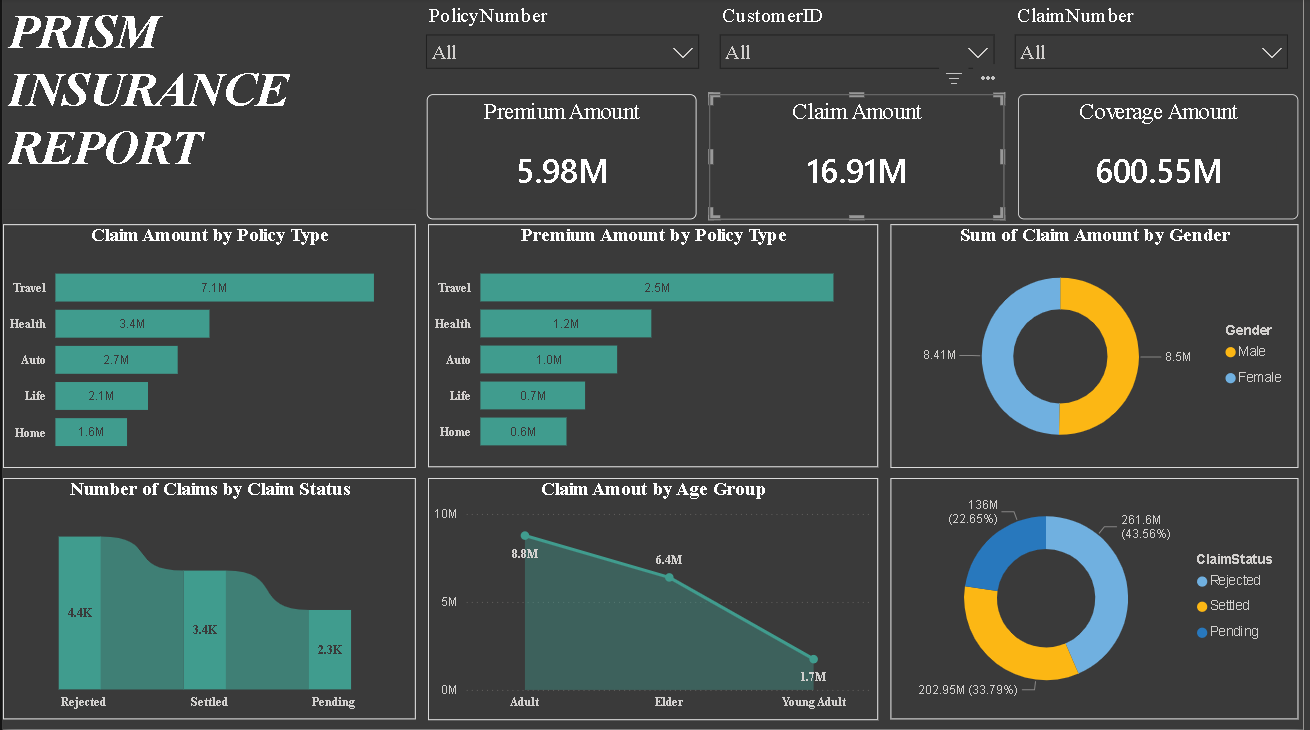

The page's visual inventory and layout, read from the dashboard file:
{"tool":"powerbi","page":{"name":"Page 1","canvas":[1280,720],"ordinal":0},"visuals":[{"type":"slicer","fields":{"Values":["InsuranceData.PolicyNumber"]},"box":[406.2,0,289.2,78.8],"z":0},{"type":"slicer","fields":{"Values":["InsuranceData.ClaimNumber"]},"box":[985.8,0,289.2,78.8],"z":1000},{"type":"slicer","fields":{"Values":["InsuranceData.CustomerID"]},"box":[695.4,0,290.5,78.8],"z":2000},{"type":"textbox","box":[0,0,406.2,208],"z":3000},{"type":"cardVisual","title":"Premium Amount","fields":{"Data":["Sum(InsuranceData.PremiumAmount)"]},"box":[417.8,94.6,265.4,122.8],"z":4000},{"type":"cardVisual","title":"Claim Amount","fields":{"Data":["Sum(InsuranceData.ClaimAmount)"]},"box":[695.4,94.8,290.5,123.1],"z":5000},{"type":"cardVisual","title":"Coverage Amount","fields":{"Data":["Sum(InsuranceData.CoverageAmount)"]},"box":[999.4,94.8,275.7,123.1],"z":6000},{"type":"ribbonChart","title":"Number of Claims by Claim Status","fields":{"Category":["InsuranceData.ClaimStatus"],"Y":["CountNonNull(InsuranceData.ClaimStatus)"]},"box":[0,472.6,406.2,237.5],"z":6002},{"type":"barChart","title":"Premium Amount by Policy Type","fields":{"Category":["InsuranceData.PolicyType"],"Y":["Sum(InsuranceData.PremiumAmount)"]},"box":[418.4,223.3,442.9,239.3],"z":6003},{"type":"lineChart","title":"Claim Amout by Age Group","fields":{"Category":["InsuranceData.Age Group"],"Y":["Sum(InsuranceData.ClaimAmount)"]},"box":[418.4,472.4,442.9,238],"z":6004},{"type":"donutChart","title":"Sum of Claim Amount by Gender","fields":{"Category":["InsuranceData.Gender"],"Y":["Sum(InsuranceData.ClaimAmount)"]},"box":[873.8,222.8,401.2,240],"z":6005},{"type":"donutChart","fields":{"Category":["InsuranceData.ClaimStatus"],"Y":["Sum(InsuranceData.CoverageAmount)"]},"box":[873.8,472.6,401.2,237.5],"z":6006},{"type":"barChart","title":"Claim Amount by Policy Type","fields":{"Category":["InsuranceData.PolicyType"],"Y":["Sum(InsuranceData.ClaimAmount)"]},"box":[0,222.8,406.2,240],"z":6007}]}

Visuals, with their boxes in screenshot pixels (x1, y1, x2, y2), scaled from the page's 1280x720 canvas onto the 1310x730 screenshot:
slicer - InsuranceData.PolicyNumber: 416,0,712,80
slicer - InsuranceData.ClaimNumber: 1009,0,1305,80
slicer - InsuranceData.CustomerID: 712,0,1009,80
textbox: 0,0,416,211
"Premium Amount" cardVisual: 428,96,699,220
"Claim Amount" cardVisual: 712,96,1009,221
"Coverage Amount" cardVisual: 1023,96,1305,221
"Number of Claims by Claim Status" ribbonChart: 0,479,416,720
"Premium Amount by Policy Type" barChart: 428,226,881,469
"Claim Amout by Age Group" lineChart: 428,479,881,720
"Sum of Claim Amount by Gender" donutChart: 894,226,1305,469
donutChart - InsuranceData.ClaimStatus x Sum(InsuranceData.CoverageAmount): 894,479,1305,720
"Claim Amount by Policy Type" barChart: 0,226,416,469
